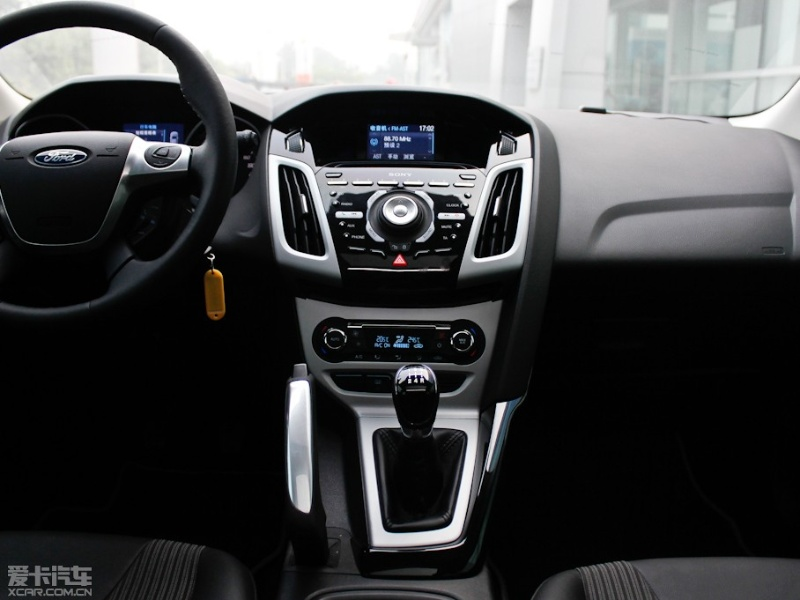control_center: (267, 81, 529, 363)
gear_lever: (265, 360, 466, 600)
odometer: (9, 79, 252, 146)
steering_wheel: (1, 17, 272, 335)
